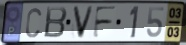1: (128, 5, 140, 40)
5: (146, 6, 166, 39)
B: (42, 6, 68, 40)
C: (24, 7, 43, 39)
F: (91, 5, 118, 40)
V: (71, 6, 95, 41)
